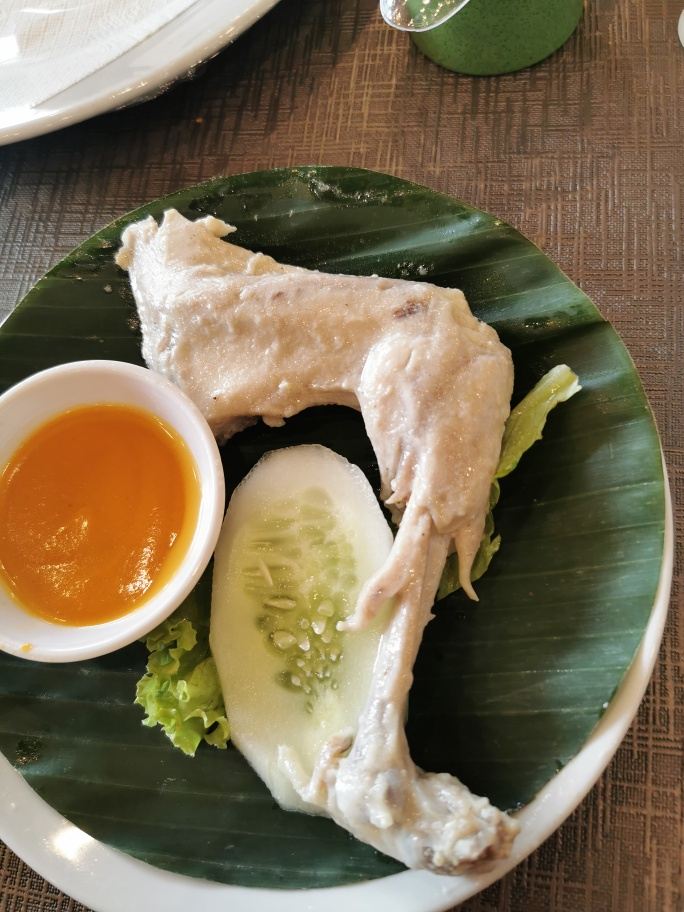ayam pop: (112, 213, 514, 878)
extra: (1, 417, 394, 818)
